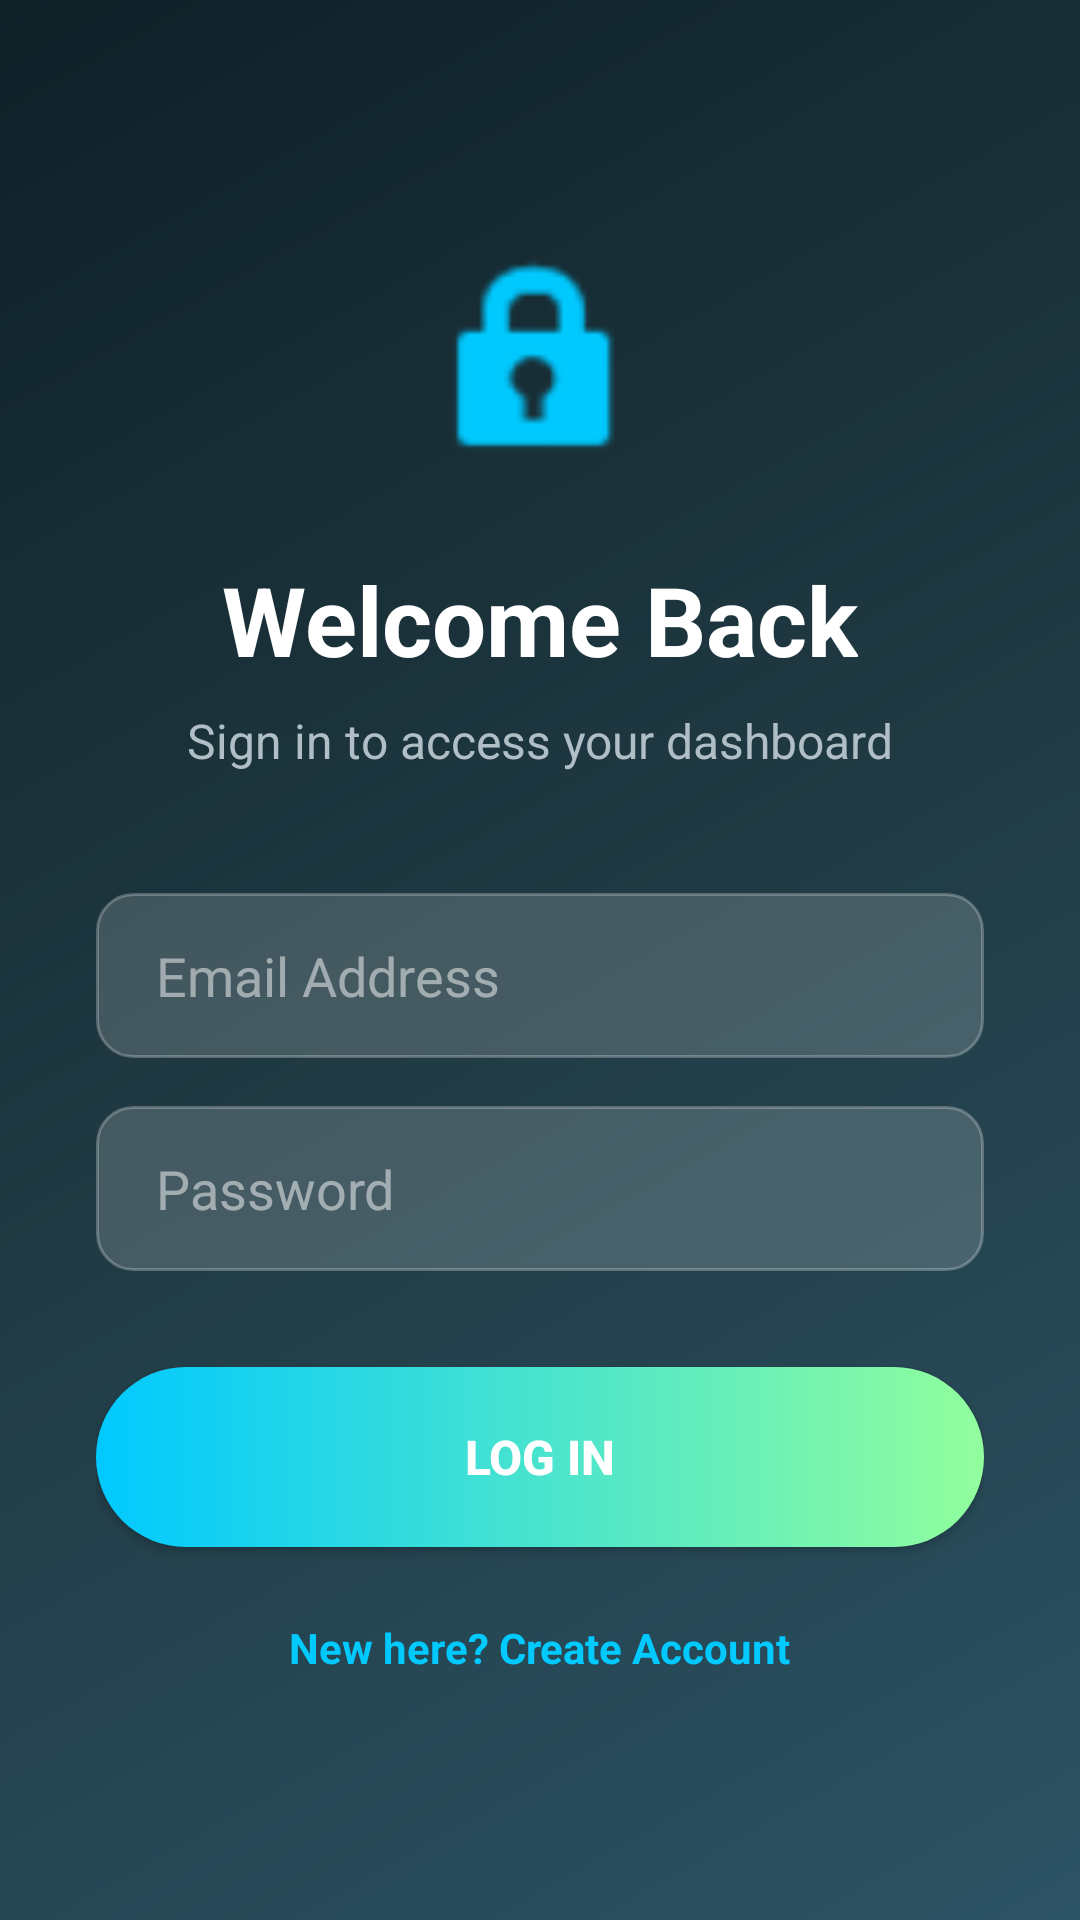

Screen size 1080px x 1920px. Icon name, then its center in pixels as [x,y]:
lock idle: [535,355]
